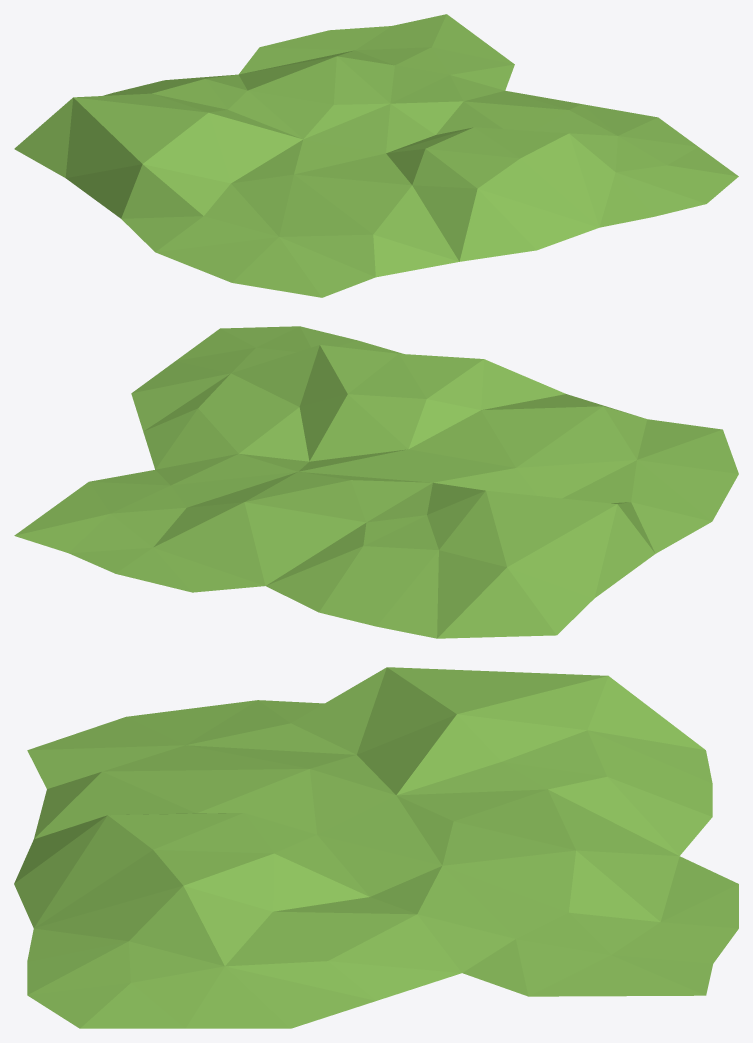
The model's file is MT_Mountain_S_a_15.fbx.
The picture shows the model from 3 angles, top to bottom: view 1: azimuth 30°, elevation 25°; view 2: azimuth 150°, elevation 25°; view 3: azimuth 270°, elevation 25°; orthographic projection. The views are drawn at different scales.
Parts seen in each view (by area): view 1: MT_Mountain_S_a_15; view 2: MT_Mountain_S_a_15; view 3: MT_Mountain_S_a_15.
Boxes of the visible parts, <box> form: MT_Mountain_S_a_15: <box>14,14,738,297</box>; MT_Mountain_S_a_15: <box>14,326,738,638</box>; MT_Mountain_S_a_15: <box>14,667,738,1028</box>.
Bounding box in the file's own units: 2305 × 230 × 2148.
